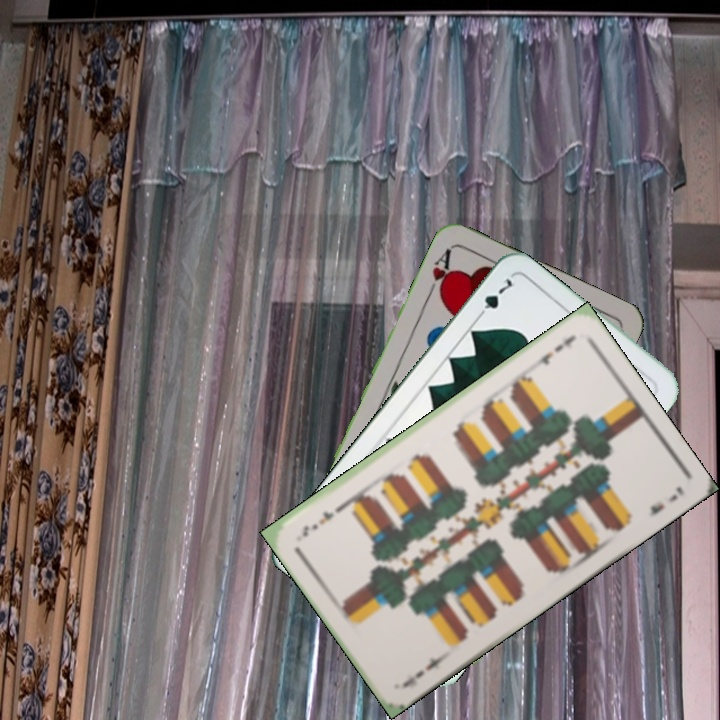E7: (528, 330, 579, 372), (398, 649, 450, 690)
G7: (471, 274, 517, 323)
HA: (423, 244, 456, 302)
